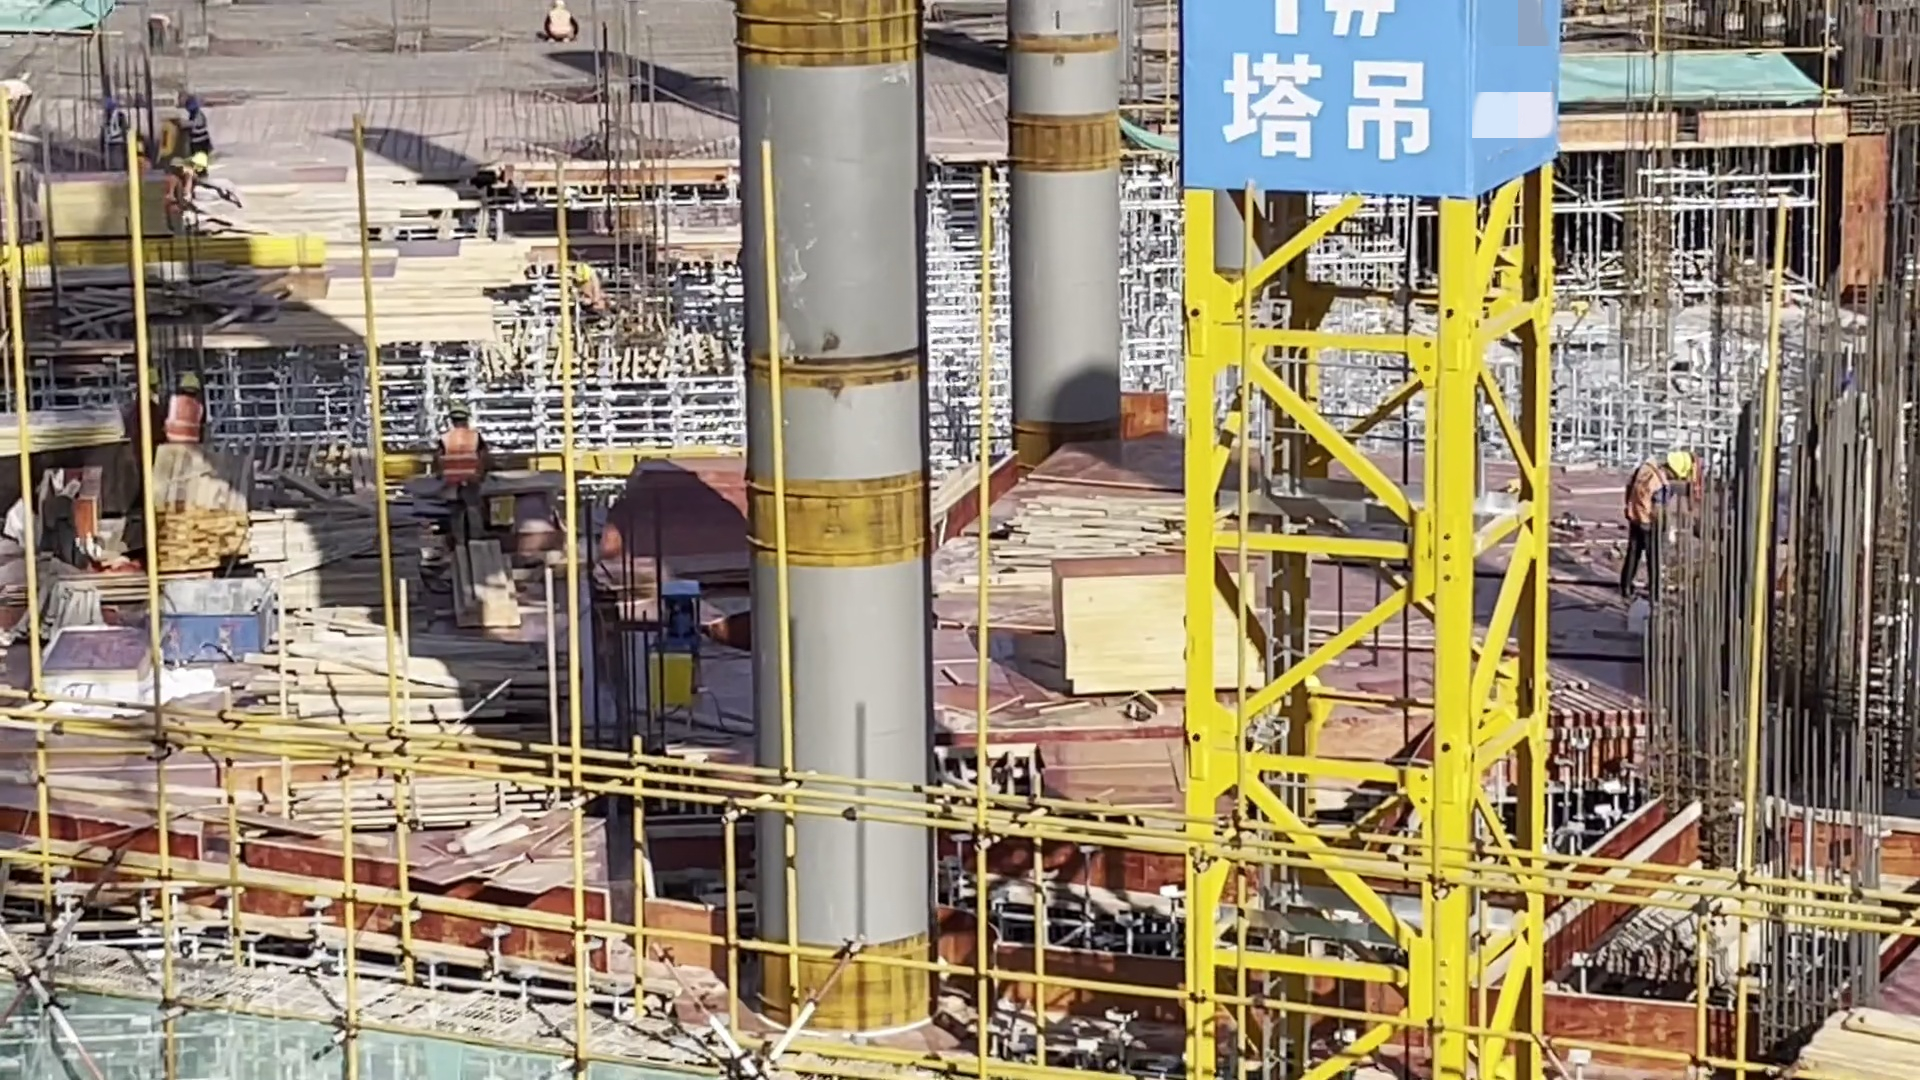board: (1054, 551, 1264, 707), (1, 394, 138, 490), (40, 163, 170, 255)
helmet: (1663, 444, 1696, 486), (172, 369, 202, 400), (448, 395, 470, 429), (182, 92, 206, 119), (192, 149, 207, 172)
hopper: (165, 576, 279, 670)
person: (1620, 440, 1695, 622), (441, 394, 490, 583), (156, 153, 224, 244), (161, 363, 206, 468), (99, 83, 138, 187), (180, 86, 222, 166), (545, 1, 576, 59)
slogan: (1172, 1, 1581, 205)
vest: (1622, 457, 1670, 545), (160, 390, 205, 448), (440, 425, 481, 487), (546, 8, 572, 44), (190, 113, 216, 148), (102, 112, 126, 148)
wood: (284, 605, 570, 728), (148, 449, 248, 576), (447, 542, 529, 637)
